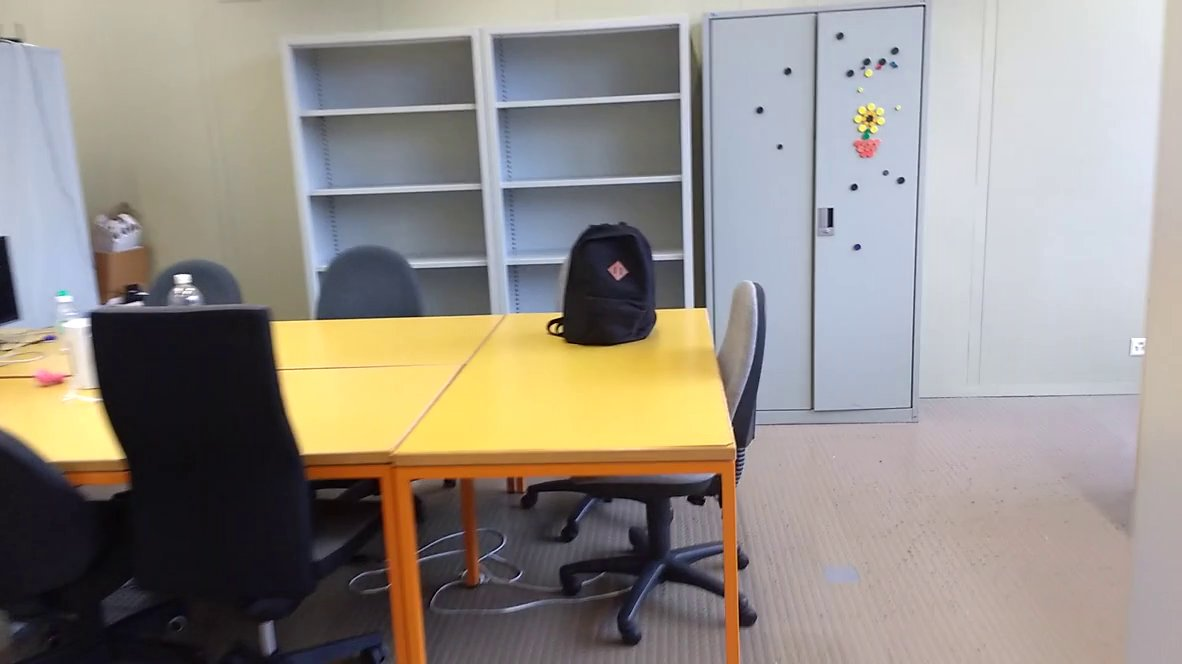bag: (542, 214, 664, 349)
chair: (88, 294, 394, 664), (566, 269, 786, 642), (298, 235, 438, 327)
